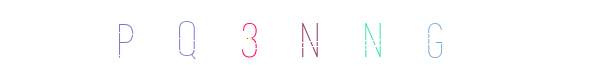3: (246, 0, 326, 80)
G: (332, 0, 412, 80)
N: (260, 0, 340, 80), (291, 0, 371, 80)
P: (197, 0, 277, 80)
Q: (239, 0, 319, 80)
